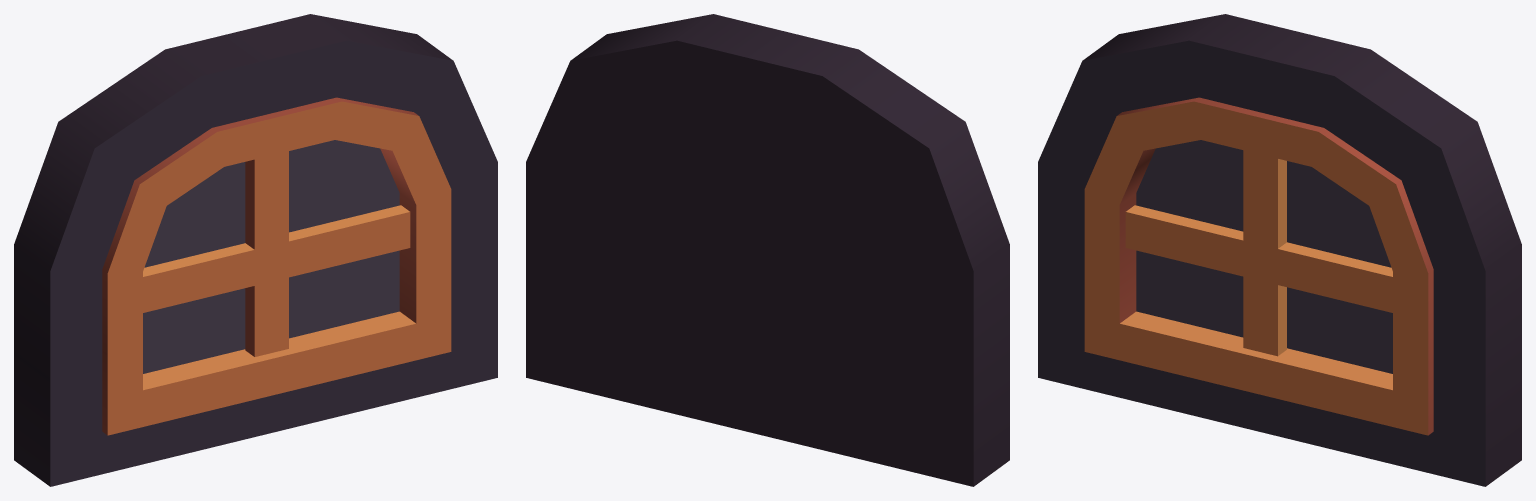
The model's file is Window01_Black_Wood.glb.
3 renders of one model, left to right at view 1: azimuth 30°, elevation 25°; view 2: azimuth 150°, elevation 25°; view 3: azimuth 330°, elevation 25°, orthographic.
Visible parts, largest first — view 1: Window01_Black_Wood; view 2: Window01_Black_Wood; view 3: Window01_Black_Wood.
Part boxes in pixels (x1=…): Window01_Black_Wood: x1=14, y1=14, x2=497, y2=486; Window01_Black_Wood: x1=526, y1=14, x2=1009, y2=486; Window01_Black_Wood: x1=1038, y1=14, x2=1521, y2=486.
Bounding box in the file's own units: 0.8998 × 0.7186 × 0.1456.
Materials: 1 (1 with a texture image).
